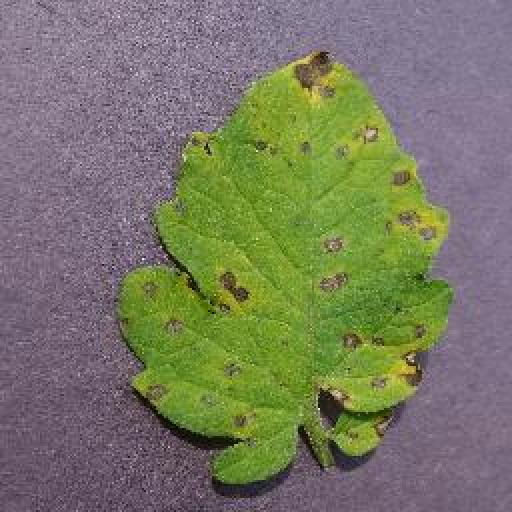disease_tomato: (114, 51, 456, 489)
